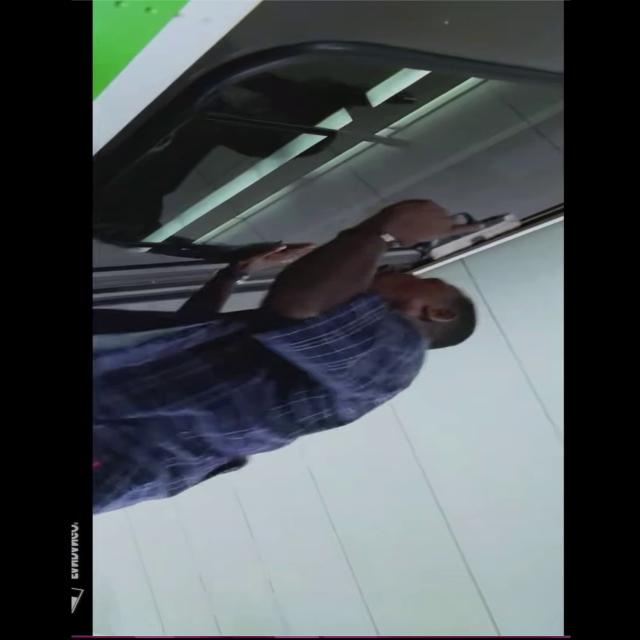weapons: (381, 189, 526, 273)
